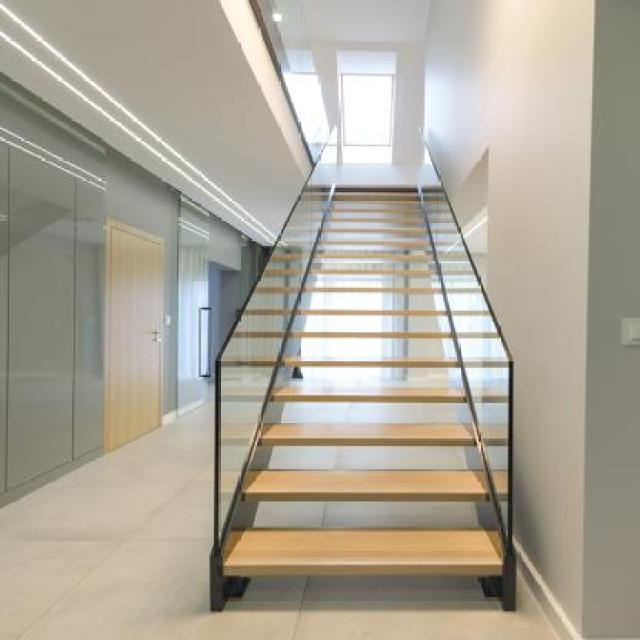stair: (222, 114, 580, 608)
